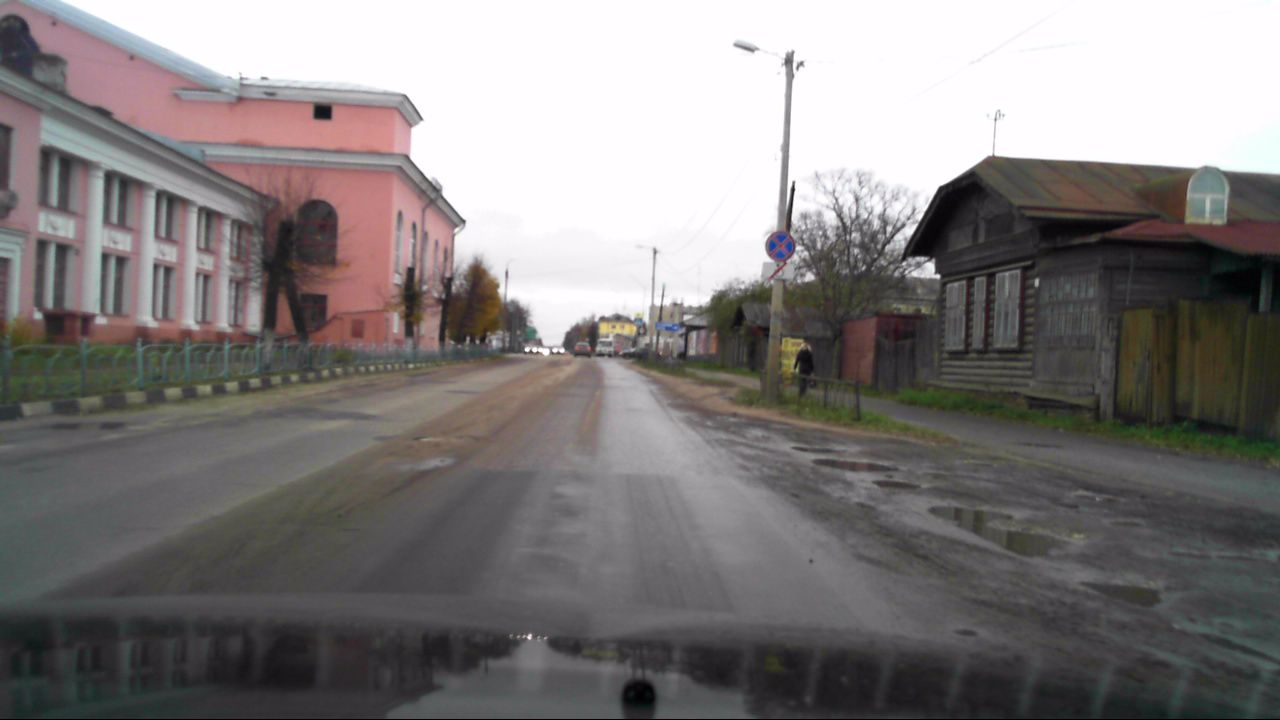No Parking: (765, 231, 795, 260)
